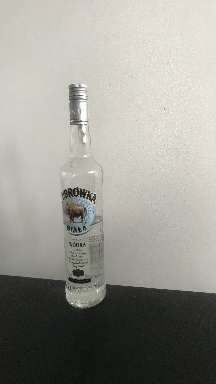butelka: (57, 79, 107, 311)
